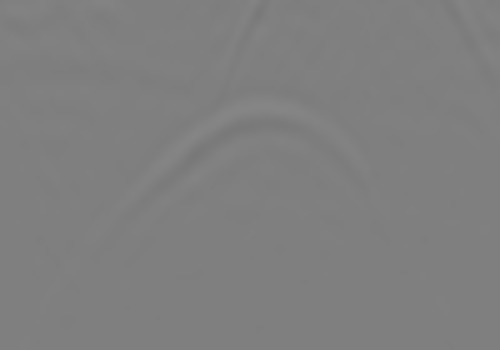hyperbola: (83, 96, 394, 291)
